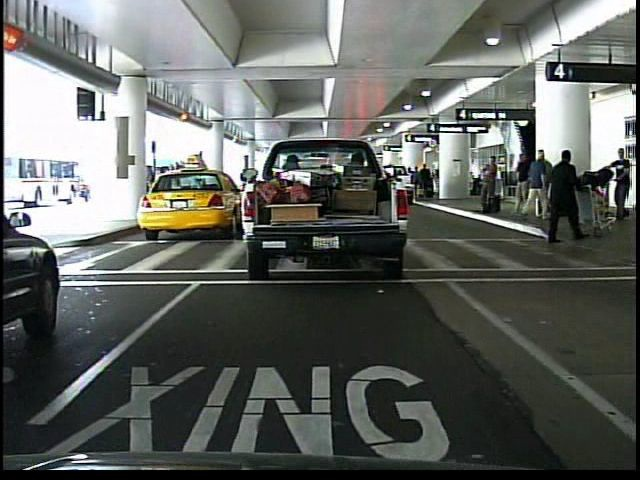person: (540, 150, 588, 246), (610, 145, 636, 223), (524, 146, 550, 224)
